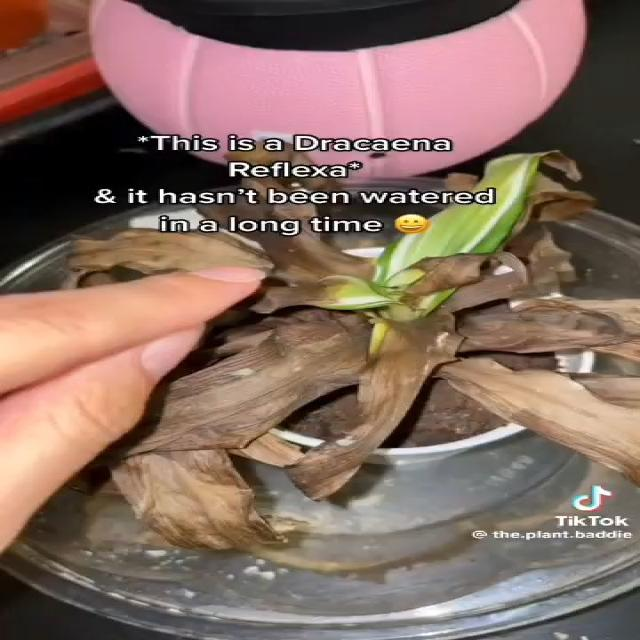lisc_suchy: (105, 308, 373, 552), (284, 314, 466, 498), (436, 359, 640, 486), (459, 296, 640, 365), (71, 228, 272, 287), (398, 252, 530, 320), (503, 202, 590, 302), (251, 276, 398, 314)
roslina_sucha: (69, 136, 640, 552)
